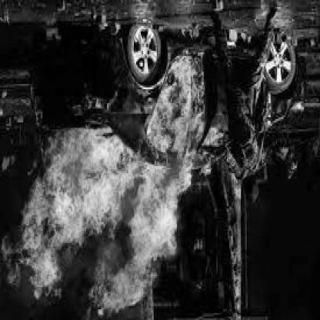Fire: (2, 44, 220, 304)
